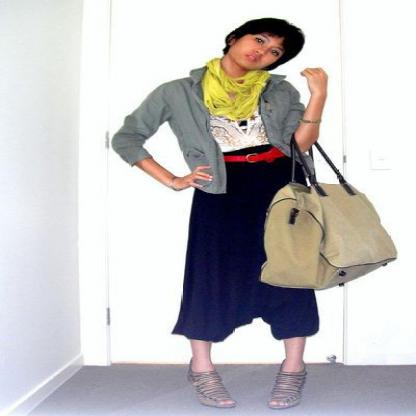bag: (260, 142, 396, 290)
jacket: (111, 58, 306, 193)
pants: (172, 158, 318, 342)
shirt: (210, 110, 268, 151)
shoe: (191, 363, 306, 409)
